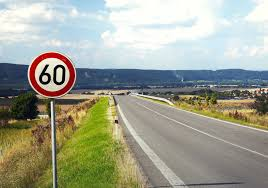Speed_limit_60km: (26, 52, 78, 99)
